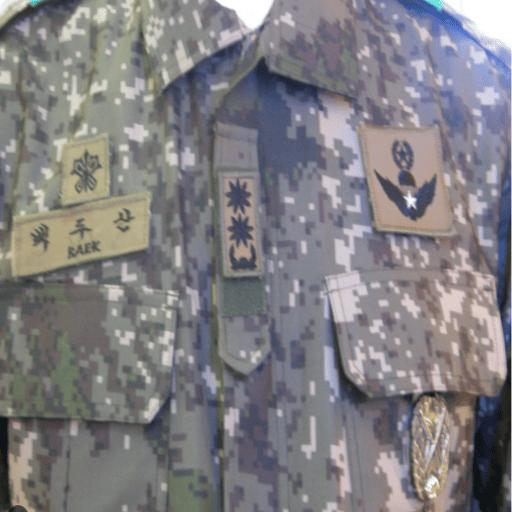korea army: (0, 0, 507, 506), (1, 0, 186, 415)
